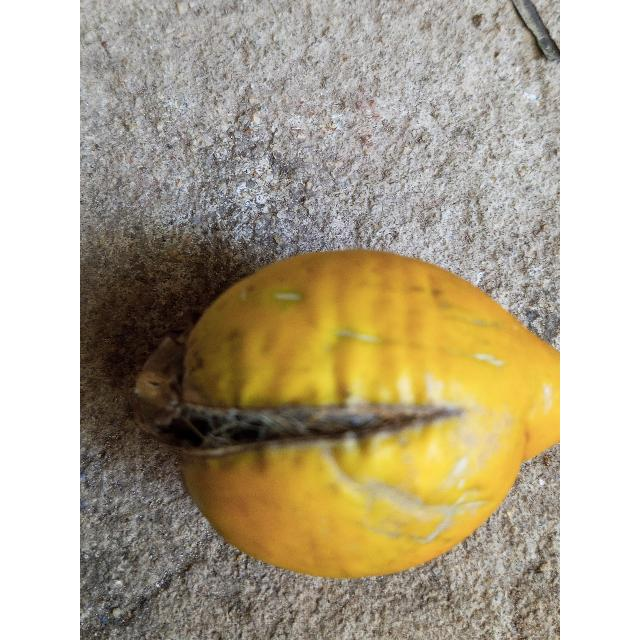damaged: (134, 249, 560, 582)
